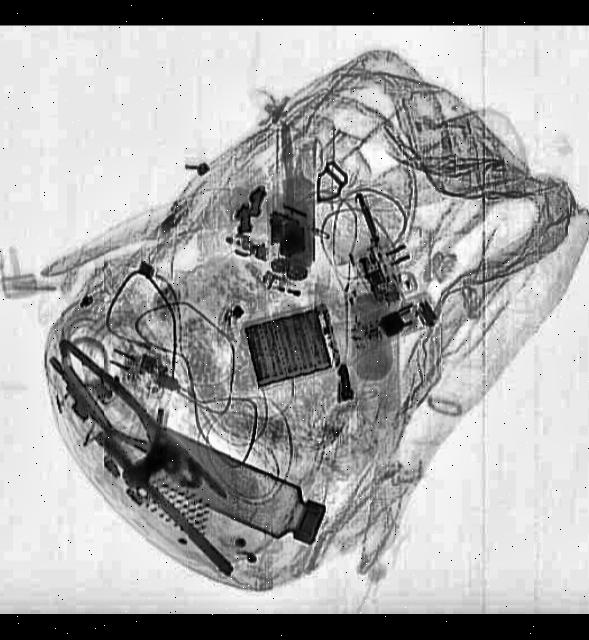Pliers: (37, 337, 218, 502)
